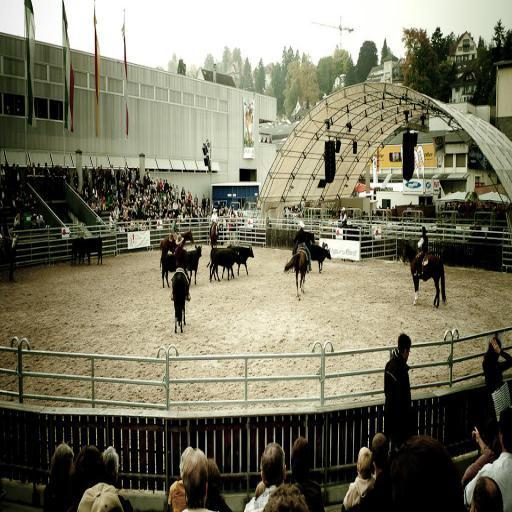horse: (400, 244, 448, 312), (284, 242, 310, 298)
